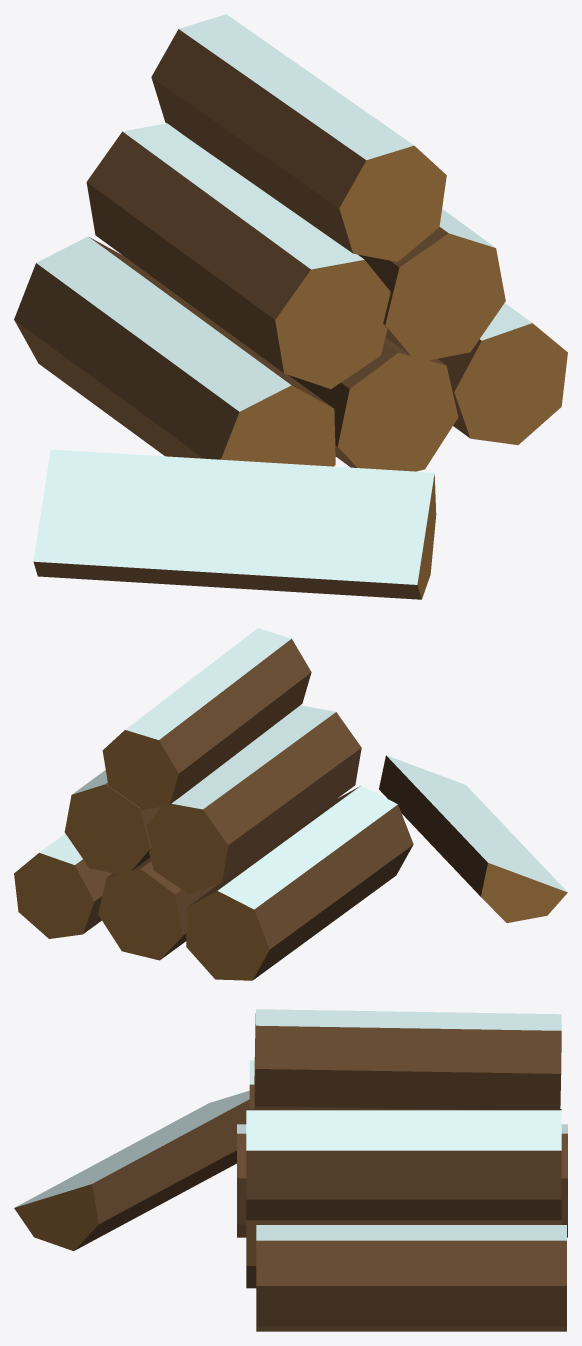
The model's file is logs-snow.glb.
3 renders of one model, top to bottom at view 1: azimuth 30°, elevation 25°; view 2: azimuth 150°, elevation 25°; view 3: azimuth 270°, elevation 25°, orthographic. The views are drawn at different scales.
Visible parts, largest first — view 1: logs_winter; view 2: logs_winter; view 3: logs_winter.
Part boxes in pixels (<box>): logs_winter: <box>14,14,567,599</box>; logs_winter: <box>14,628,567,980</box>; logs_winter: <box>14,1009,567,1331</box>.
Size of the model in its own units: 1.74 by 0.9594 by 1.82.
1 material, 1 textured.
